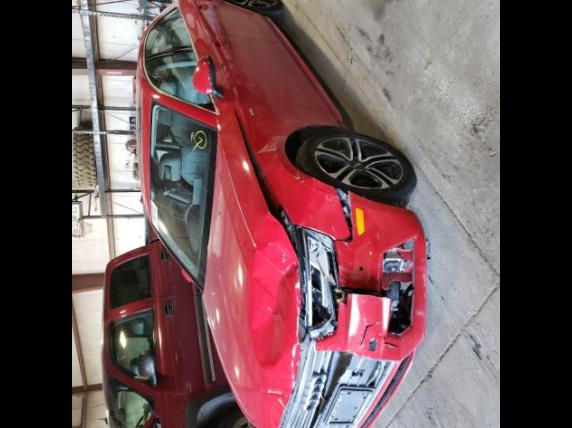Broken part: (299, 183, 429, 428), (234, 110, 309, 380), (279, 333, 397, 428), (302, 227, 337, 337)
Dent: (248, 241, 298, 366), (255, 134, 315, 181)
Missing part: (327, 388, 372, 424)
Scratch: (291, 281, 299, 387), (292, 169, 306, 184), (326, 191, 336, 201), (330, 223, 336, 236), (278, 399, 284, 406), (269, 390, 280, 393)
